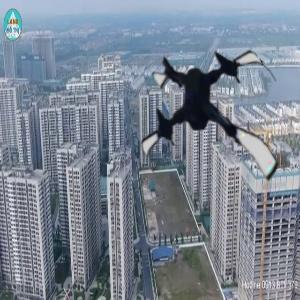drone: (130, 38, 297, 205)
